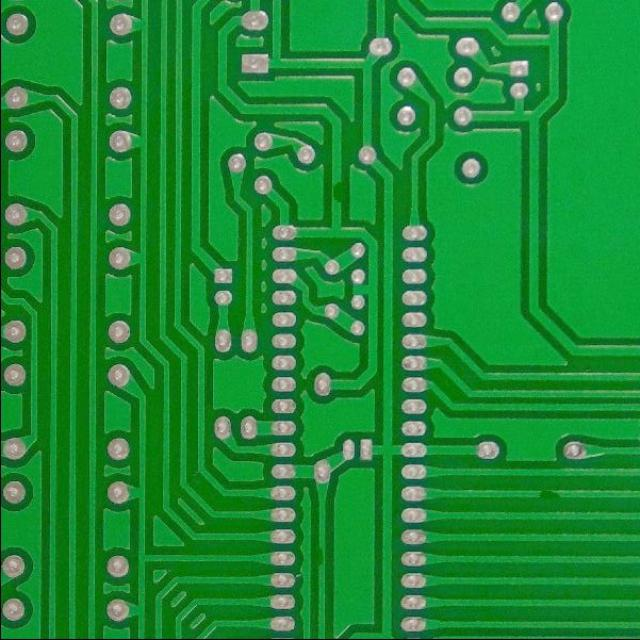mouse_bite: (326, 172, 348, 212), (534, 486, 564, 508), (310, 540, 329, 571)
